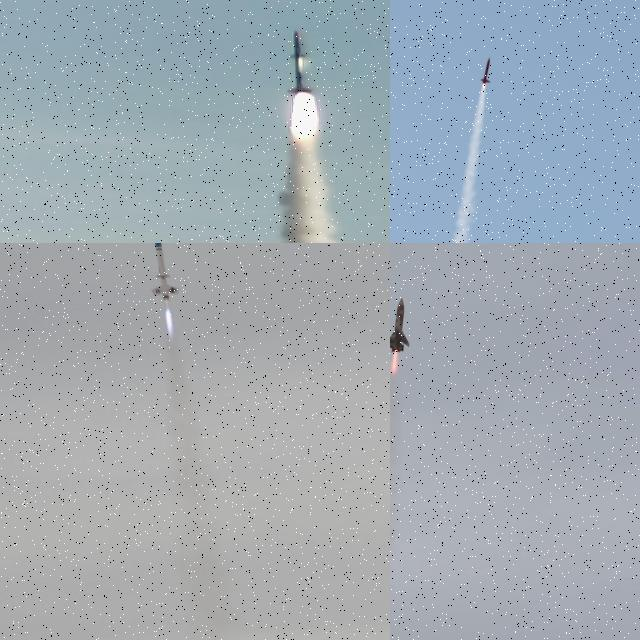Rocket: (143, 243, 181, 302), (288, 31, 312, 93), (390, 297, 409, 352), (480, 57, 491, 84)
